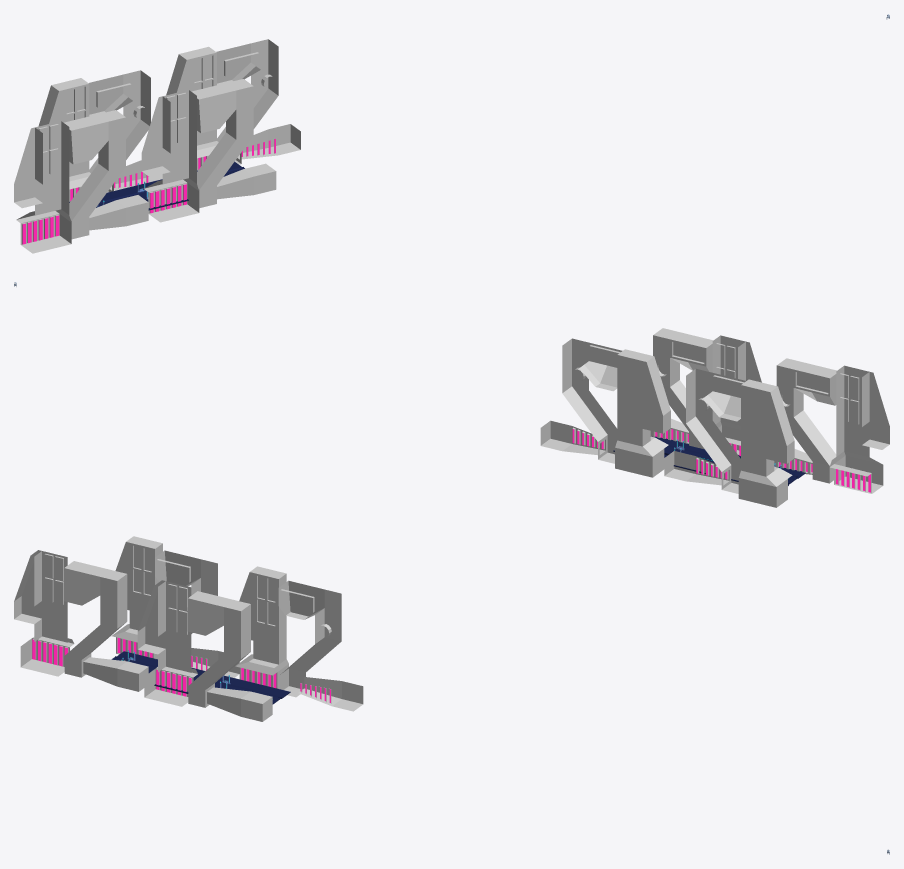
File: pf-upload-1791823866157-motor_with_animation_vener.glb
3 renders of one model, top to bottom at view 1: azimuth 30°, elevation 25°; view 2: azimuth 150°, elevation 25°; view 3: azimuth 330°, elevation 25°, orthographic. The views are drawn at different scales.
Parts seen in each view (by area): view 1: Plane; view 2: Plane; view 3: Plane.
Part boxes in pixels (x1,y1,x2,y2): Plane: [14, 39, 300, 253]; Plane: [540, 328, 889, 507]; Plane: [14, 536, 363, 721].
Size of the model in its own units: 1445 by 181 by 144.
